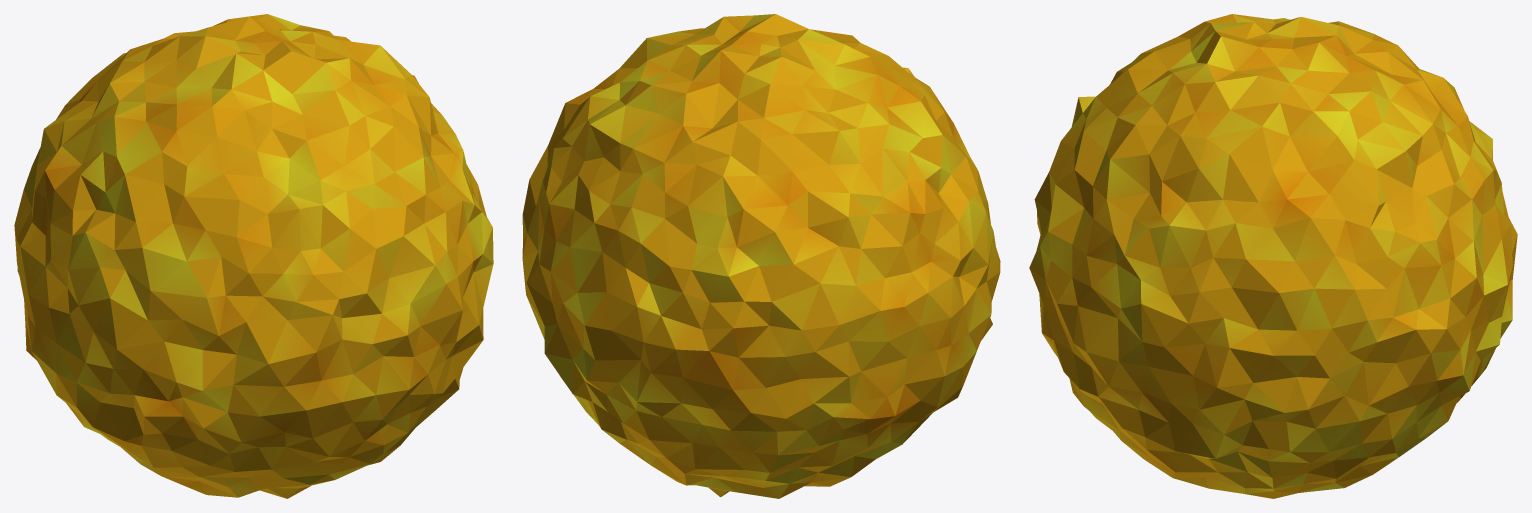
The model's file is Sun.fbx.
3 renders of one model, left to right at view 1: azimuth 30°, elevation 25°; view 2: azimuth 150°, elevation 25°; view 3: azimuth 270°, elevation 25°, orthographic.
Visible parts, largest first — view 1: Sun; view 2: Sun; view 3: Sun.
Part boxes in pixels (<box>): Sun: <box>14,14,493,498</box>; Sun: <box>522,14,1000,498</box>; Sun: <box>1029,14,1517,498</box>.
Size of the model in its own units: 20.19 by 20.75 by 20.5.
